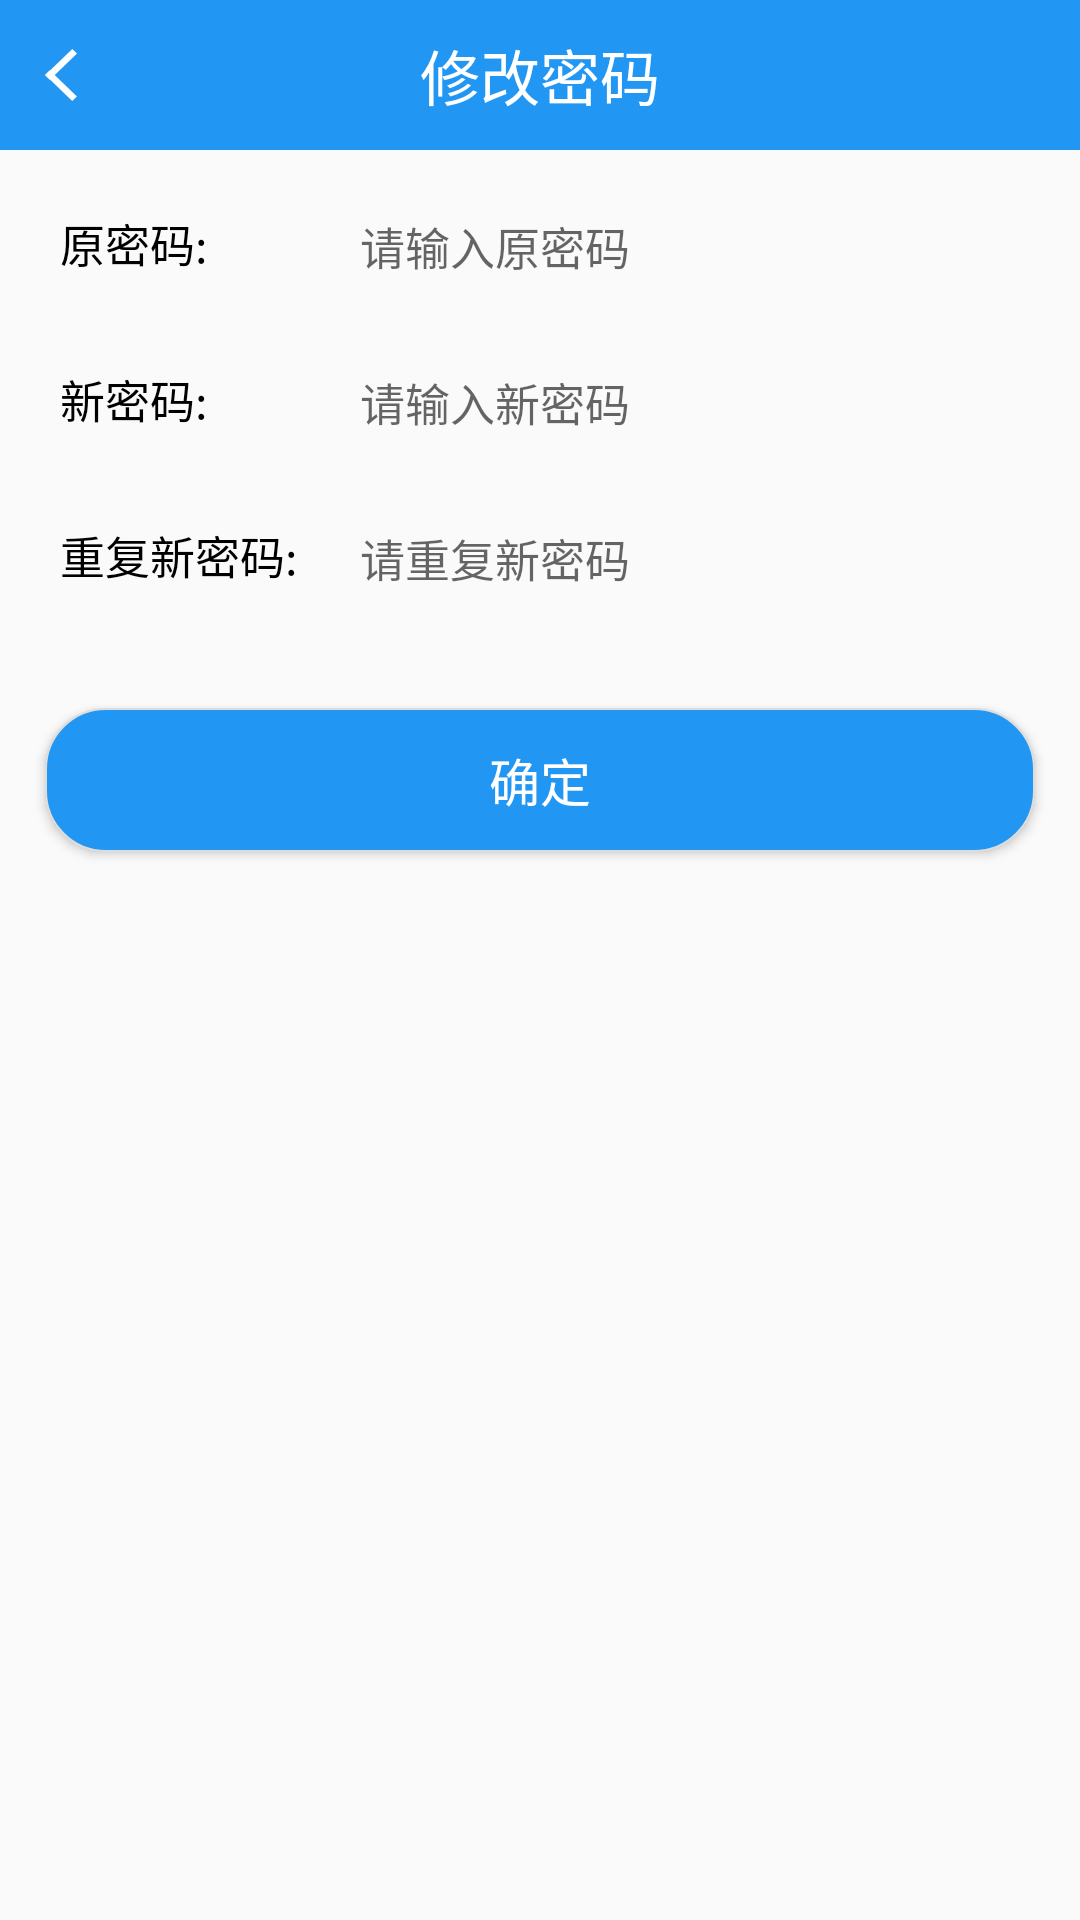

Point at icon controls on the screen. Image size 1080px×1920px, points as (x=x, y=y).
return: (x=61, y=75)
